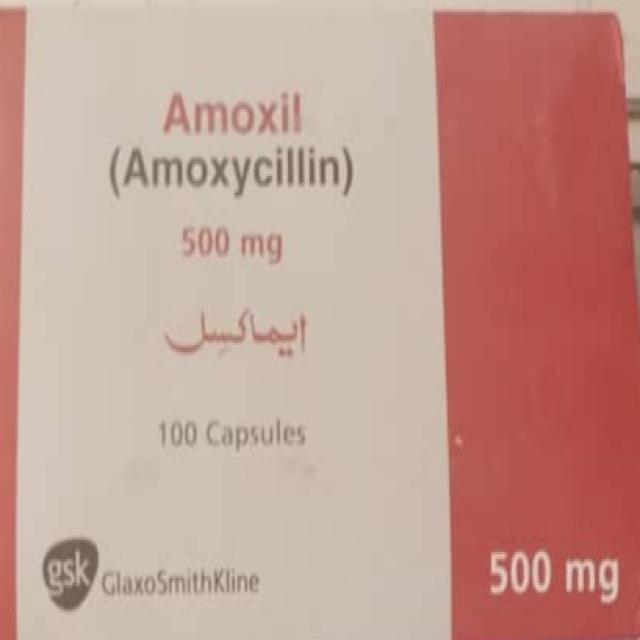drug-name: (159, 84, 305, 137)
